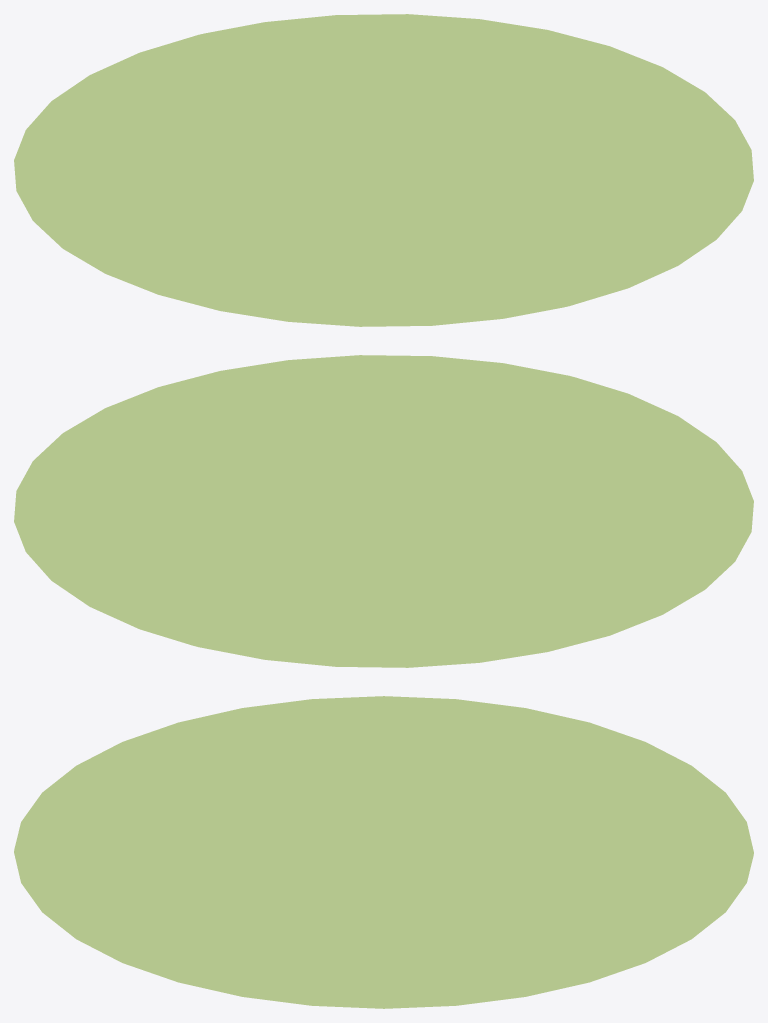
The model's file is grass.fbx.
The picture shows the model from 3 angles, top to bottom: view 1: azimuth 30°, elevation 25°; view 2: azimuth 150°, elevation 25°; view 3: azimuth 270°, elevation 25°; orthographic projection.
Visible parts, largest first — view 1: Circle.001; view 2: Circle.001; view 3: Circle.001.
Part boxes in pixels (x1,y1,x2,y2): Circle.001: (14, 14, 753, 326); Circle.001: (14, 355, 753, 667); Circle.001: (14, 696, 753, 1008).
Size of the model in its own units: 31538 by 0.00514 by 31538.
